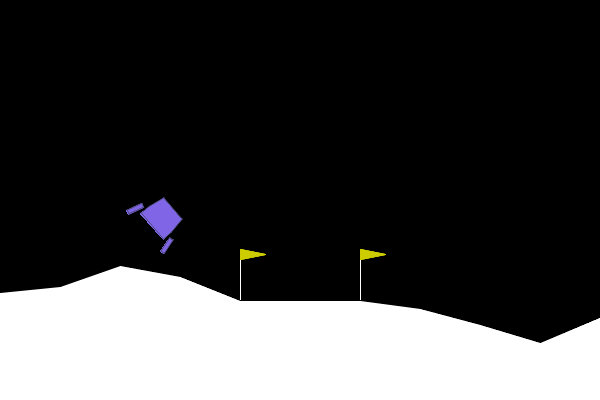lander: (124, 185, 194, 256)
